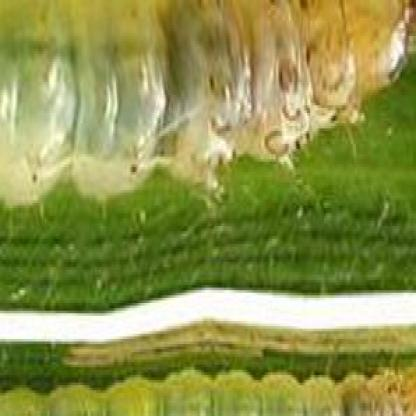leaf-folder: (0, 0, 379, 185)
